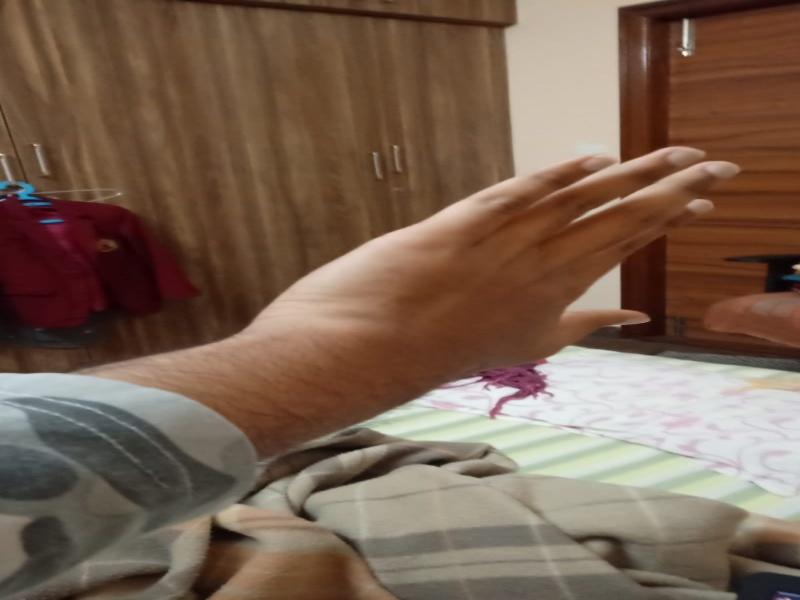Hand: (241, 129, 759, 389)
